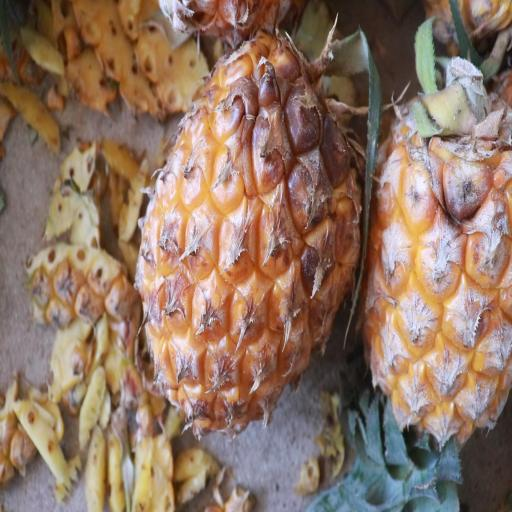Pineapple - v8 v1: (132, 32, 362, 432), (361, 46, 512, 426)
